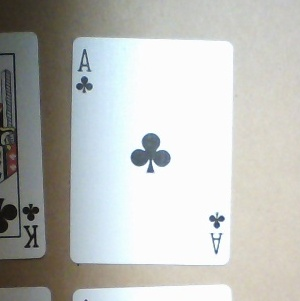card: (68, 35, 232, 266)
